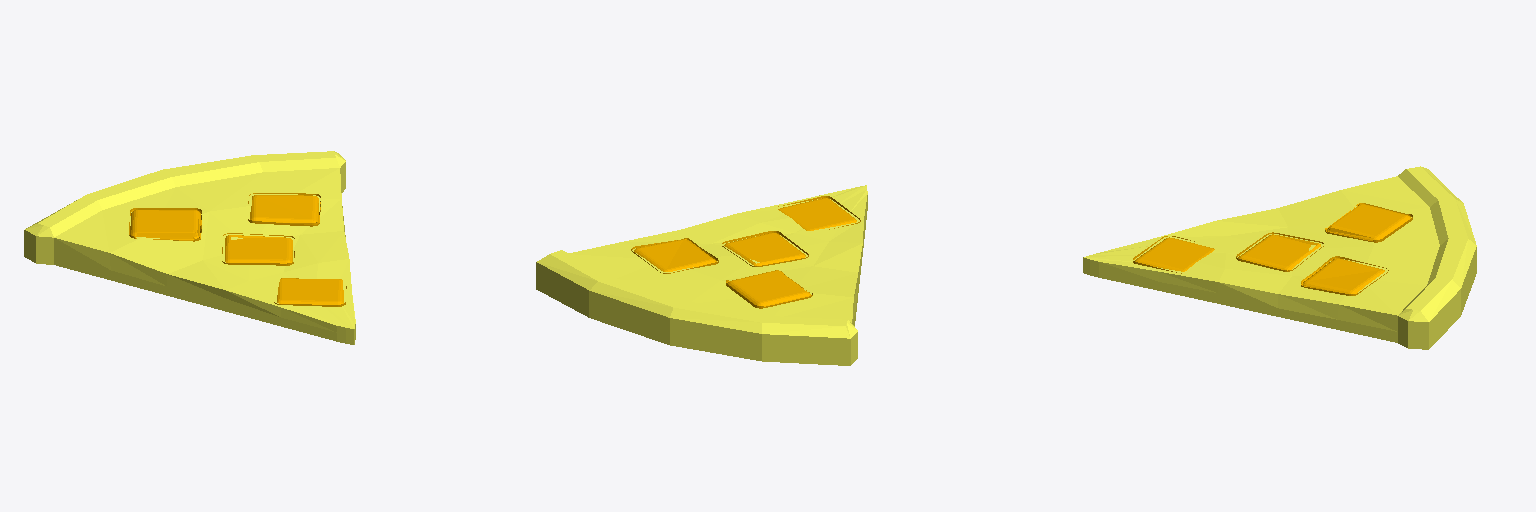
Rendered from YellowSlice.obj.
3 views of the same model, side by side, from view 1: azimuth 30°, elevation 25°; view 2: azimuth 150°, elevation 25°; view 3: azimuth 270°, elevation 25° (orthographic).
Visible parts, largest first — view 1: Pizza_Slice_Cube.003; view 2: Pizza_Slice_Cube.003; view 3: Pizza_Slice_Cube.003.
Part boxes in pixels (x1,y1,x2,y2): Pizza_Slice_Cube.003: (24, 151, 355, 344); Pizza_Slice_Cube.003: (536, 185, 867, 365); Pizza_Slice_Cube.003: (1083, 166, 1476, 349).
Size of the model in its own units: 1.07 by 0.1128 by 1.16.